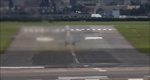maybay_muctieu: (60, 29, 77, 46)
